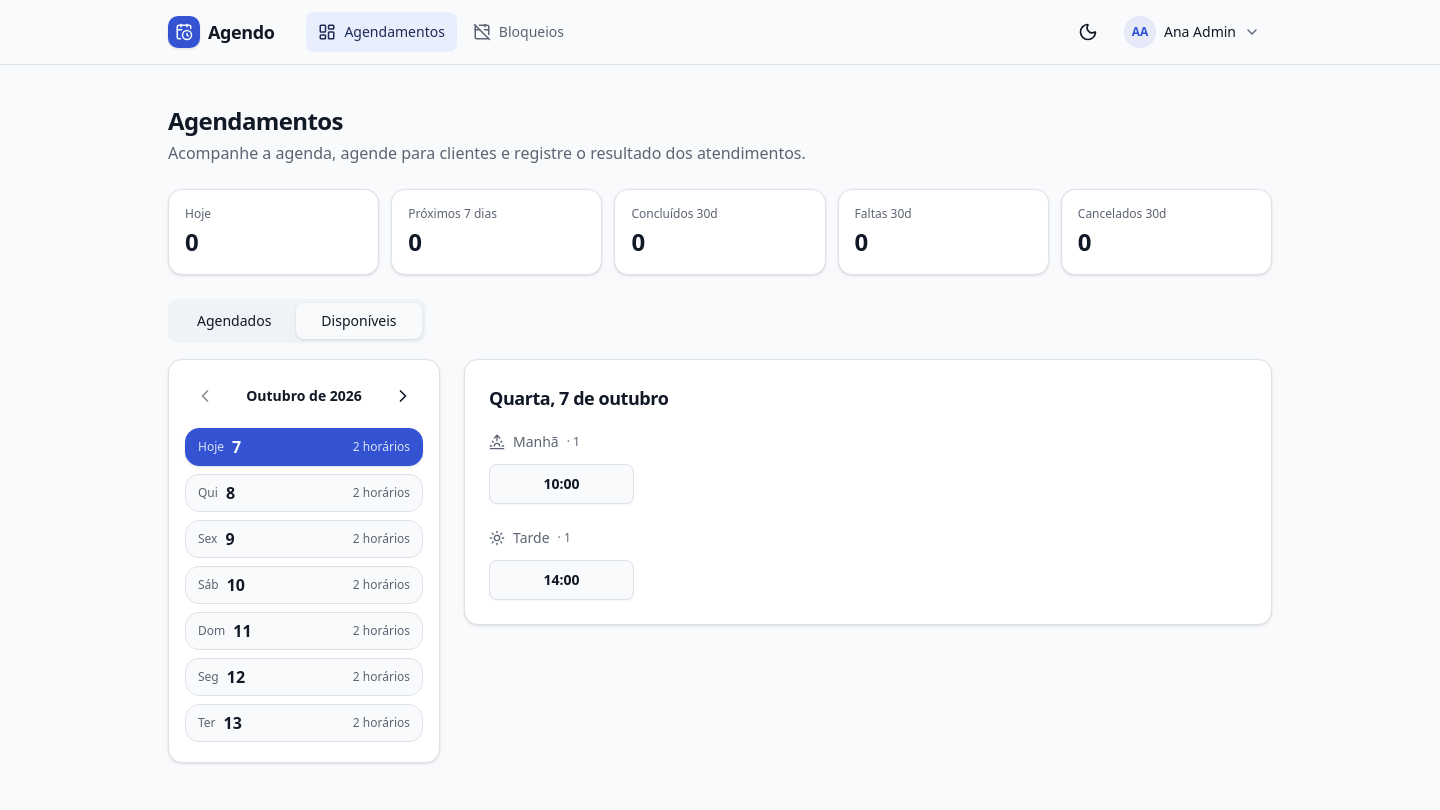
admin booking for a client › says when no client matches the search
The width and height of the screenshot is (1440, 810).
Click the button "10:00" at (562, 484), box [489,464,634,504]
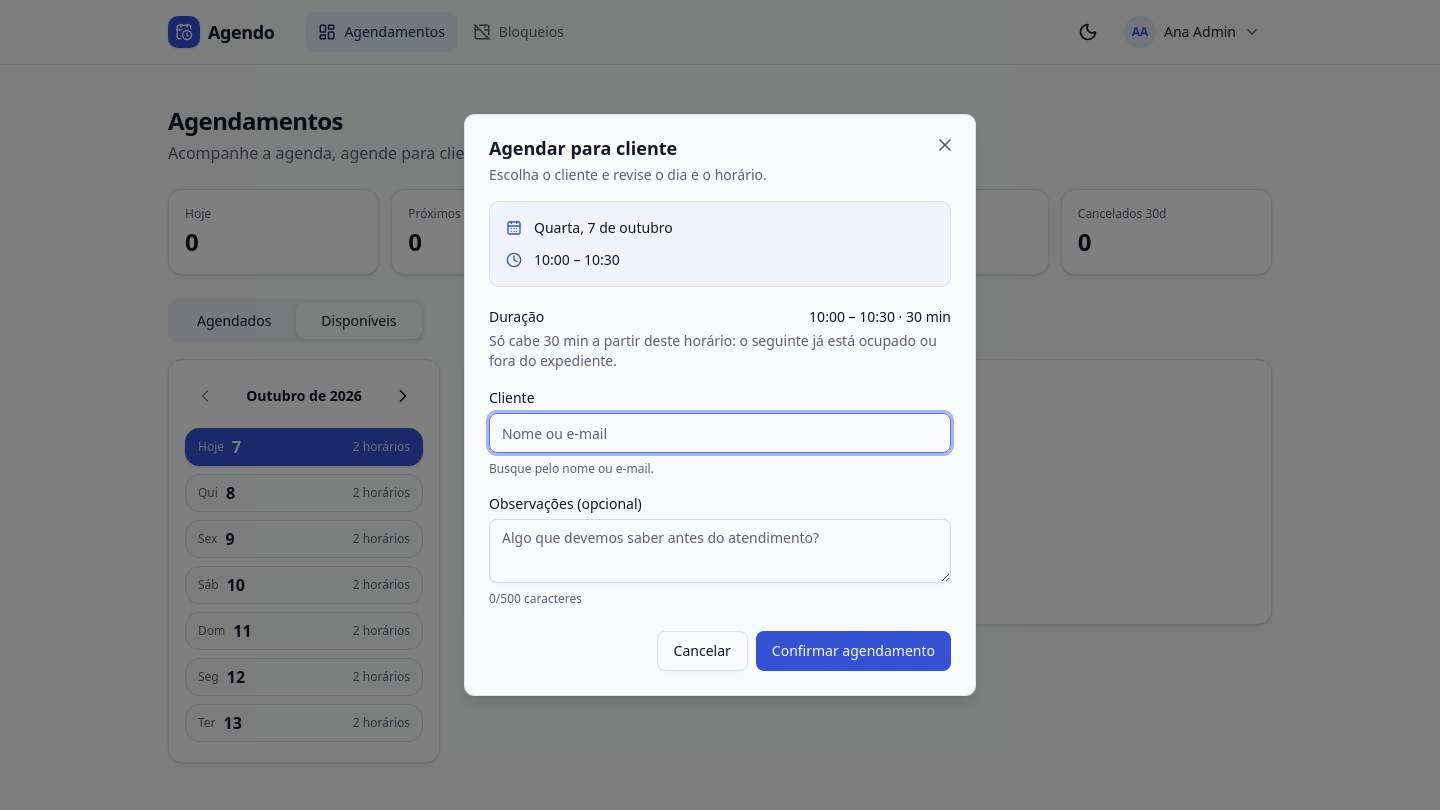
Type "mar" into the dropdown labelled "Cliente" at (720, 433), box [489,413,951,453]
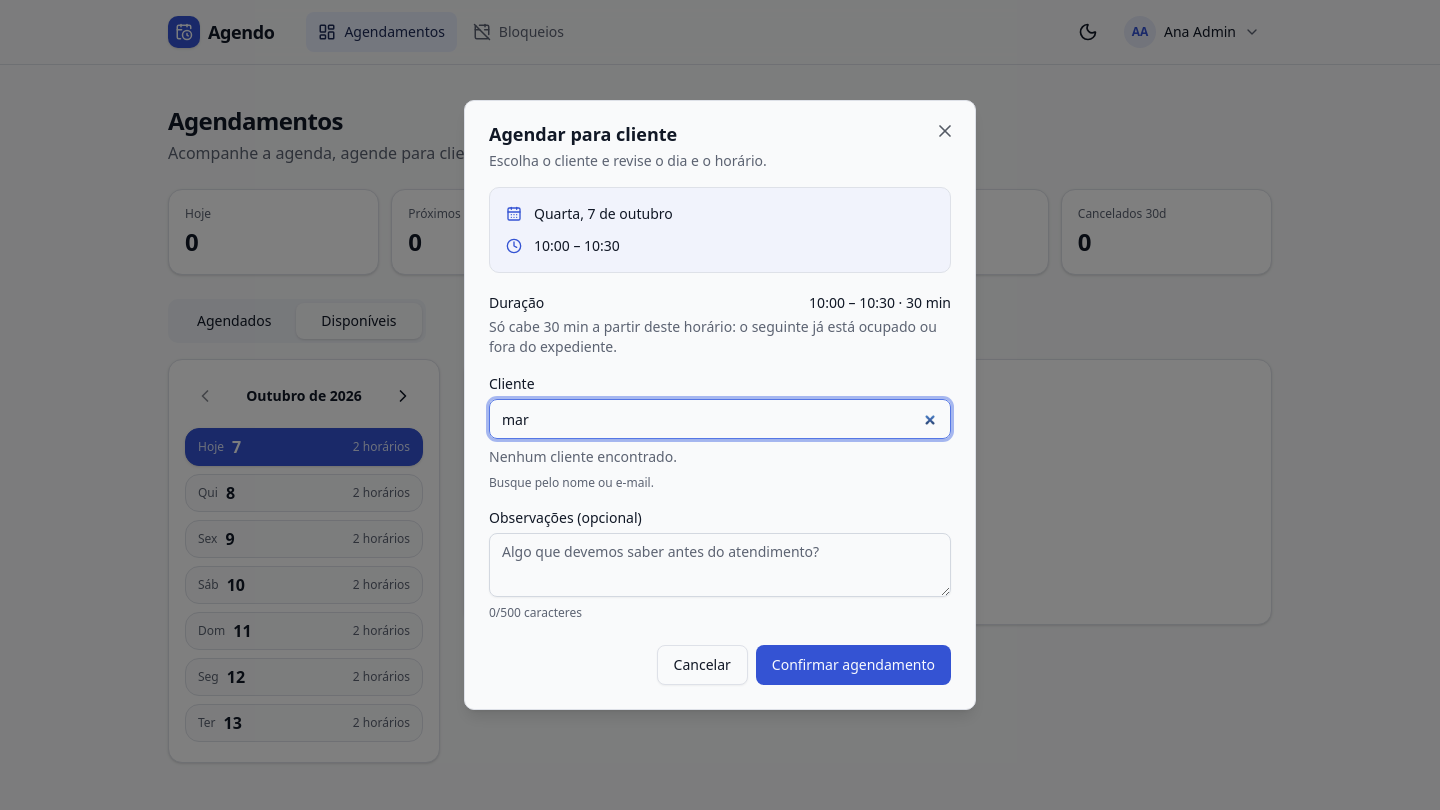
Expected: the text "Nenhum cliente encontrado." is shown, [489,447,677,466]
